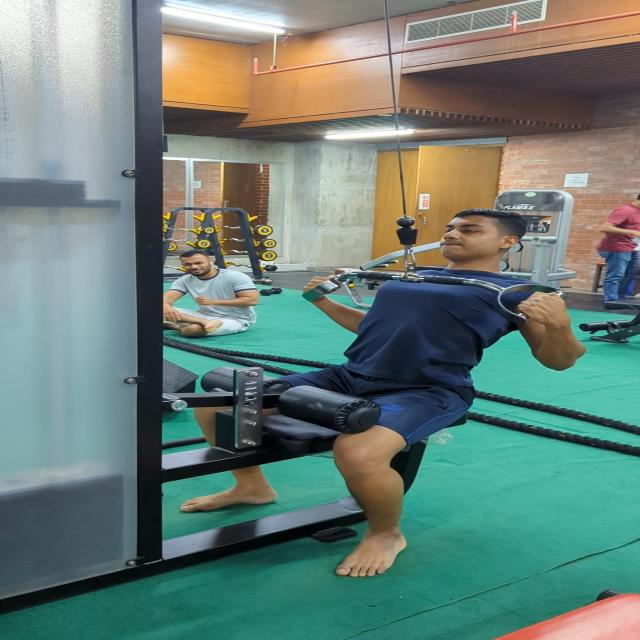Normal_LatPulldown: (166, 195, 598, 592)
